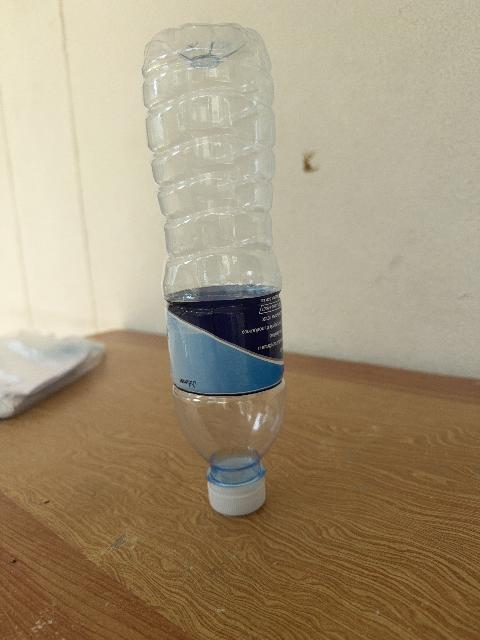bottle: (143, 24, 285, 515)
